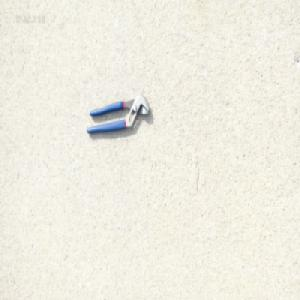Pliers: (85, 93, 151, 136)
